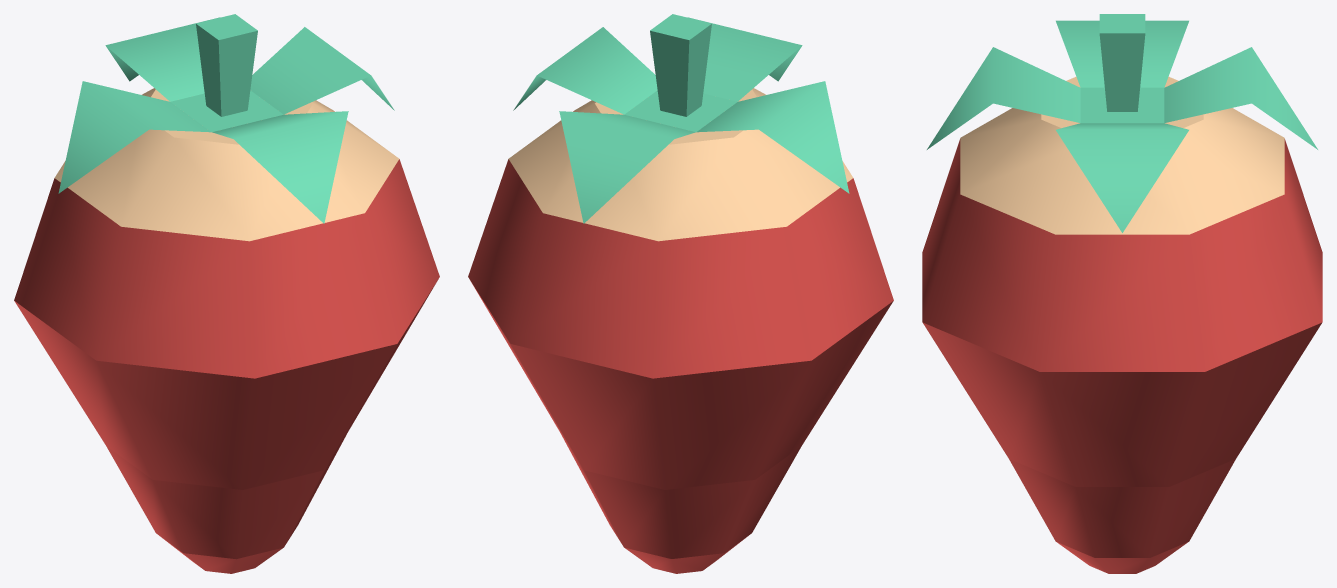
Rendered from strawberry.glb.
3 renders of one model, left to right at view 1: azimuth 30°, elevation 25°; view 2: azimuth 150°, elevation 25°; view 3: azimuth 270°, elevation 25°, orthographic.
Parts seen in each view (by area): view 1: strawberry; view 2: strawberry; view 3: strawberry.
Part boxes in pixels (left/top/right/bottom): strawberry: left=14, top=14, right=439, bottom=573; strawberry: left=468, top=14, right=893, bottom=573; strawberry: left=922, top=14, right=1322, bottom=573.
Bounding box in the file's own units: 0.1197 × 0.177 × 0.1197.
